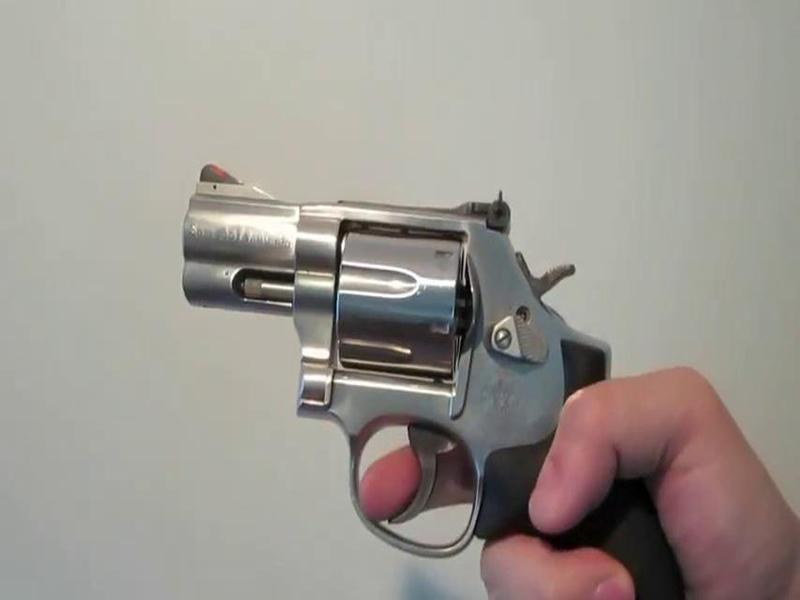Revolver: (171, 159, 667, 600)
